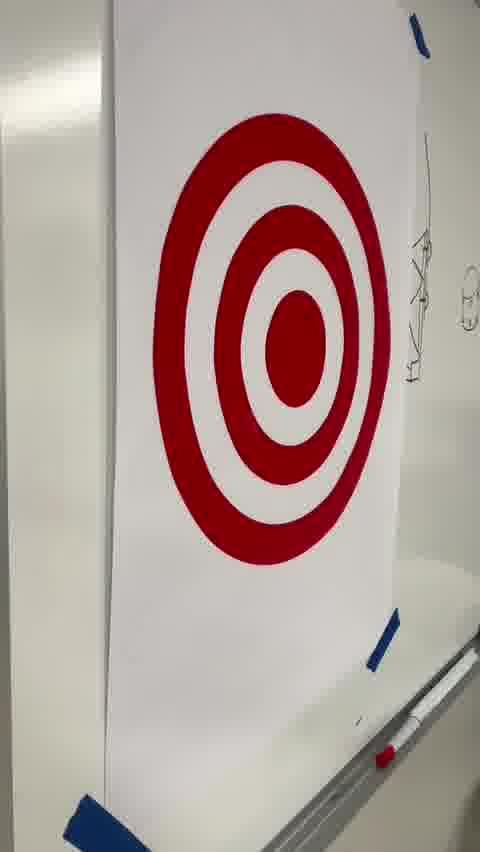target_red: (150, 112, 392, 564)
